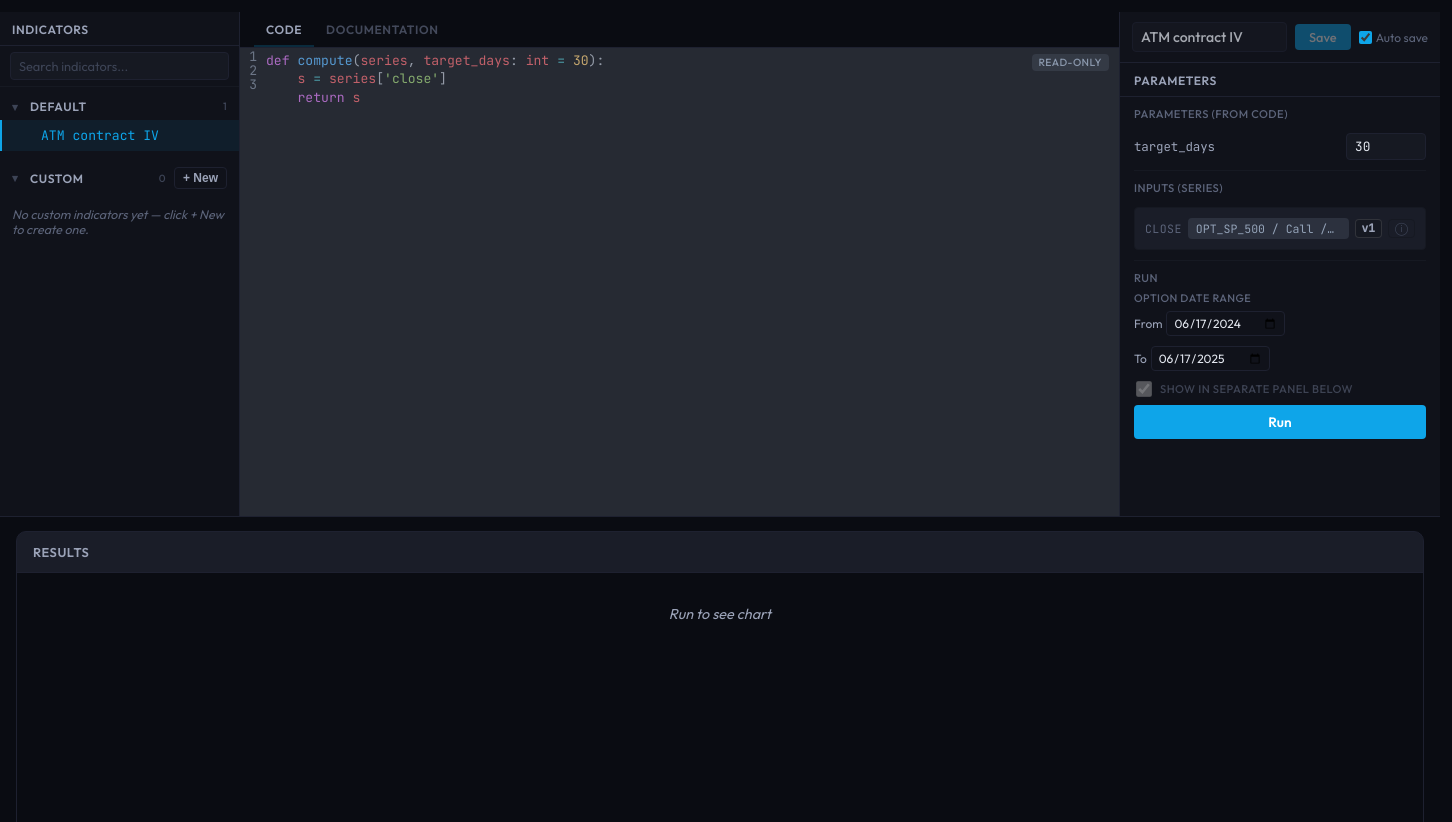
Test: option_stream — typed-error rendering › renders the typed error card on STREAM_UNAVAILABLE_FOR_ROOT (422)
This screenshot has width=1452, height=822.
Click the button with aria-label "run indicator".
click(1280, 422)  # box [1134,405,1426,439]
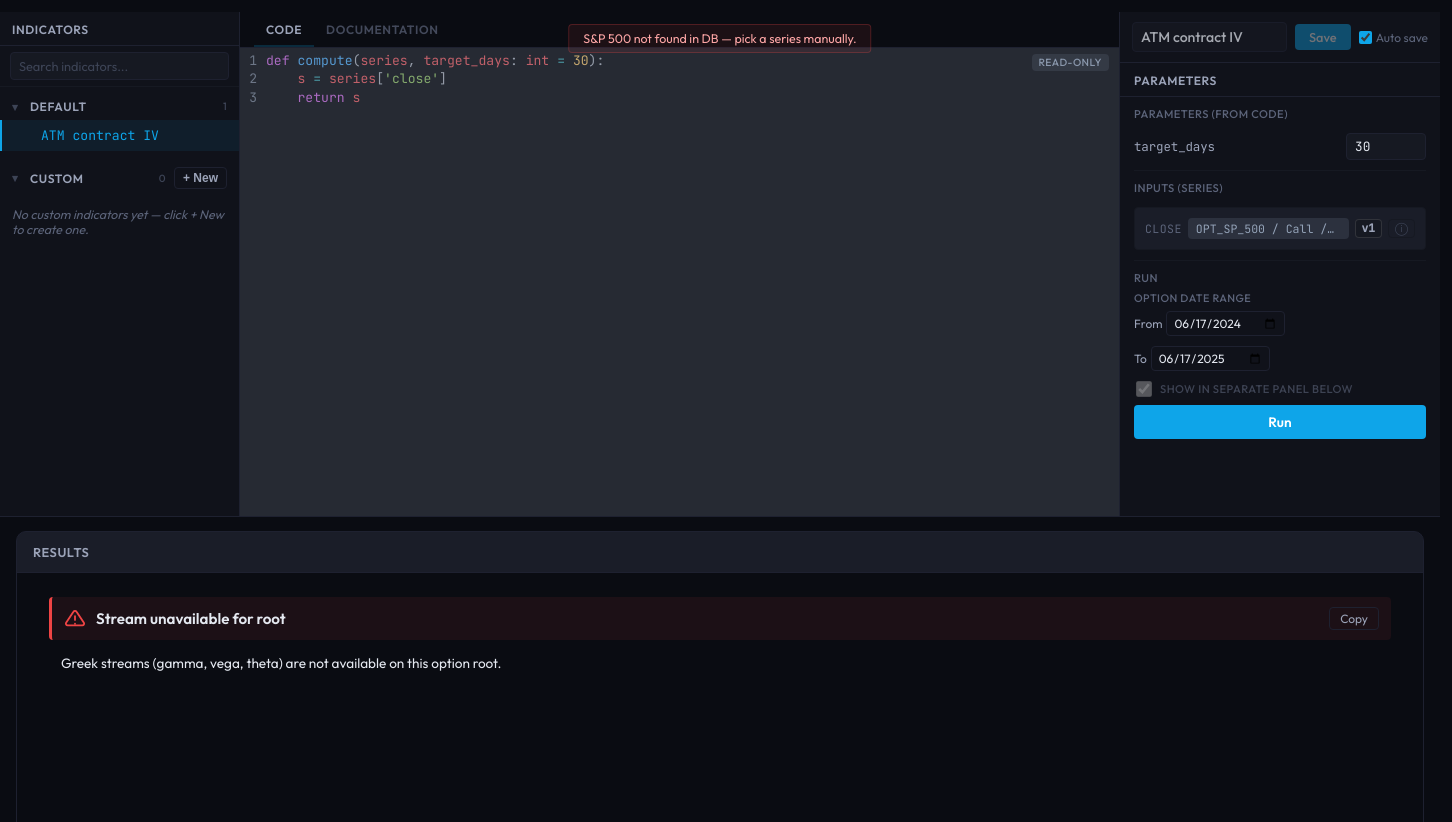
expect the heading "Stream unavailable for root" is shown: met, box [96,609,286,628]
expect the text "Greek streams" is shown: met, box [61,654,502,672]
